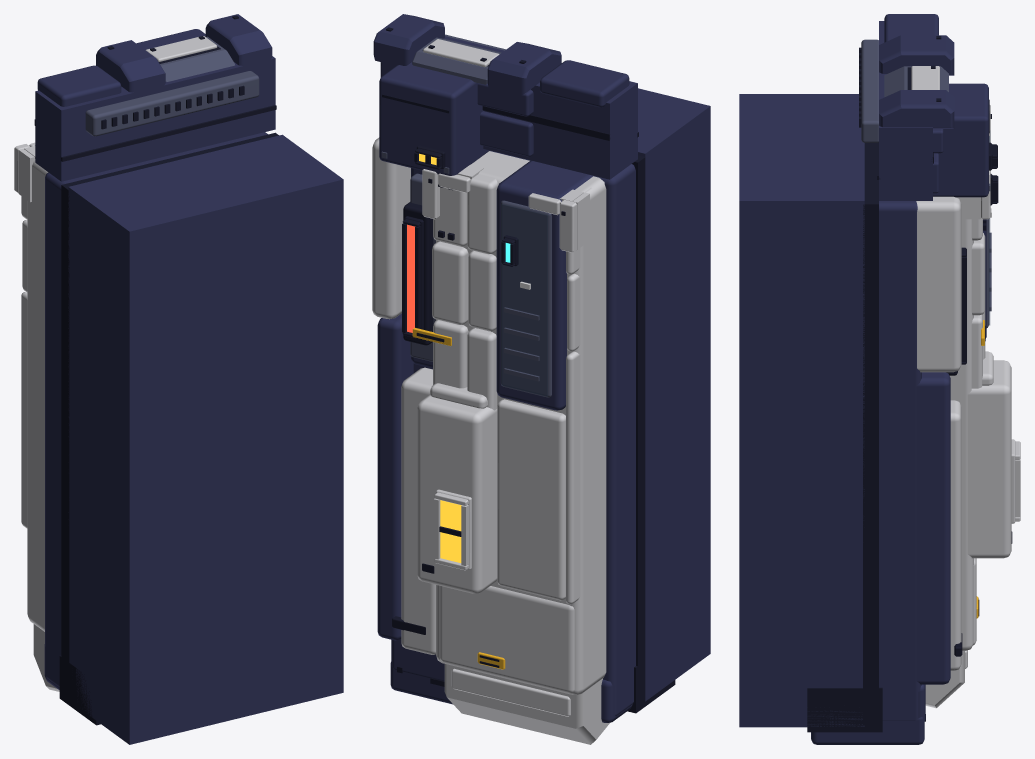
The model's file is hull.bay.pillar.bumper.navy.louvre.w1.414.s0.k-2.glb.
The picture shows the model from 3 angles, left to right: view 1: azimuth 30°, elevation 25°; view 2: azimuth 150°, elevation 25°; view 3: azimuth 270°, elevation 25°; orthographic projection. The views are drawn at different scales.
Visible parts, largest first — view 1: hull.bay.pillar.bumper.navy.louvre.w1.414.s0.k-2; view 2: hull.bay.pillar.bumper.navy.louvre.w1.414.s0.k-2; view 3: hull.bay.pillar.bumper.navy.louvre.w1.414.s0.k-2.
Part boxes in pixels (x1,y1,x2,y2): hull.bay.pillar.bumper.navy.louvre.w1.414.s0.k-2: [14, 14, 343, 744]; hull.bay.pillar.bumper.navy.louvre.w1.414.s0.k-2: [372, 14, 710, 744]; hull.bay.pillar.bumper.navy.louvre.w1.414.s0.k-2: [739, 14, 1020, 744].
Size of the model in its own units: 1.41 by 3.96 by 1.57.
